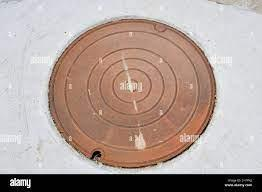closed manhole-not overflowing-: (46, 16, 217, 168)
